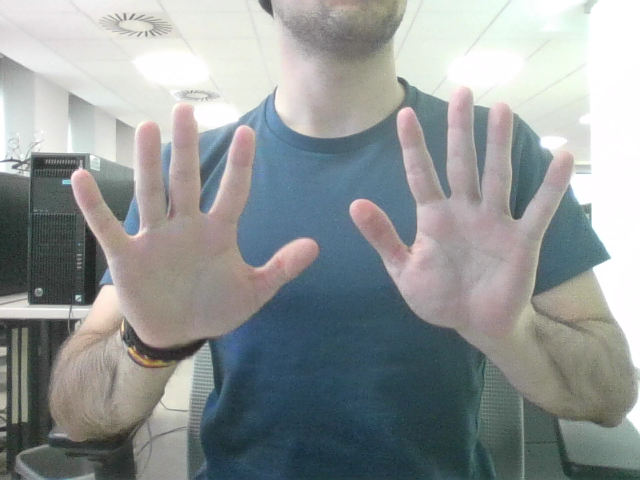Manos Arriba: (107, 109, 540, 306)
